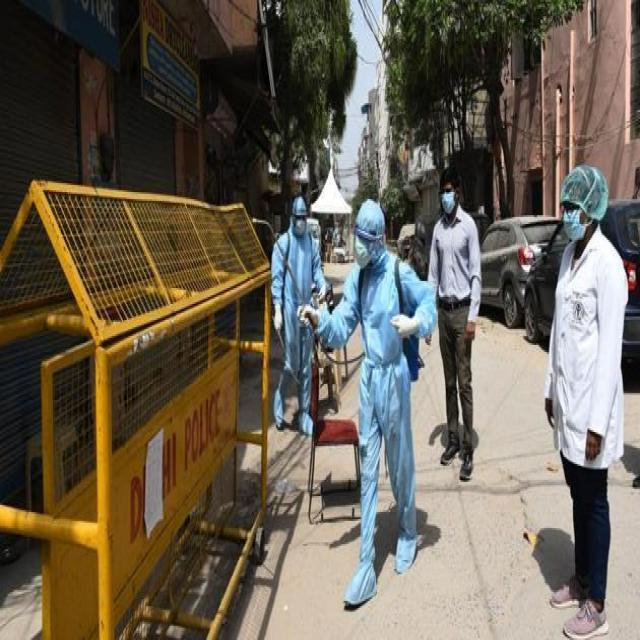Coverall: (333, 198, 431, 591), (270, 183, 329, 464)
Gloves: (289, 290, 324, 356), (388, 310, 426, 358)
Mask: (342, 229, 376, 279), (557, 204, 587, 242), (289, 214, 314, 246), (432, 194, 463, 213)
